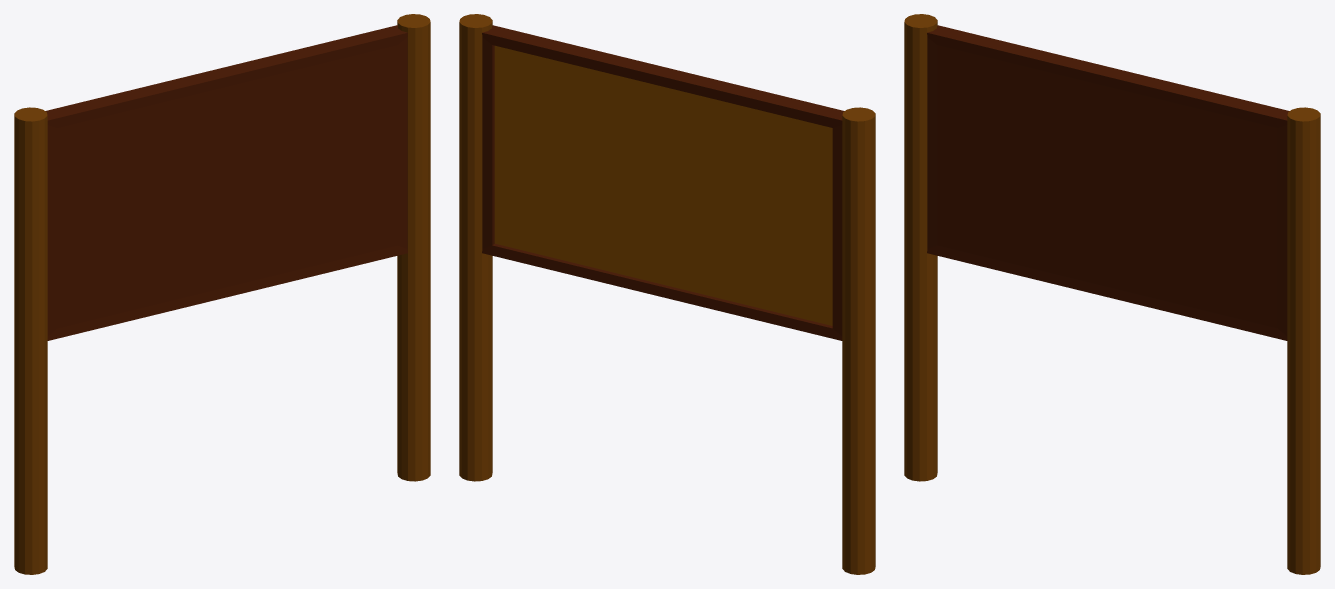
Rendered from BildBoard.fbx.
The picture shows the model from 3 angles, left to right: view 1: azimuth 30°, elevation 25°; view 2: azimuth 150°, elevation 25°; view 3: azimuth 330°, elevation 25°; orthographic projection.
Parts seen in each view (by area): view 1: Cube; view 2: Cube; view 3: Cube.
Boxes of the visible parts, x1,y1,x2,y2 form: Cube: (14,14,430,574); Cube: (459,14,875,574); Cube: (904,14,1320,574).
Size of the model in its own units: 1933 by 2036 by 136.
